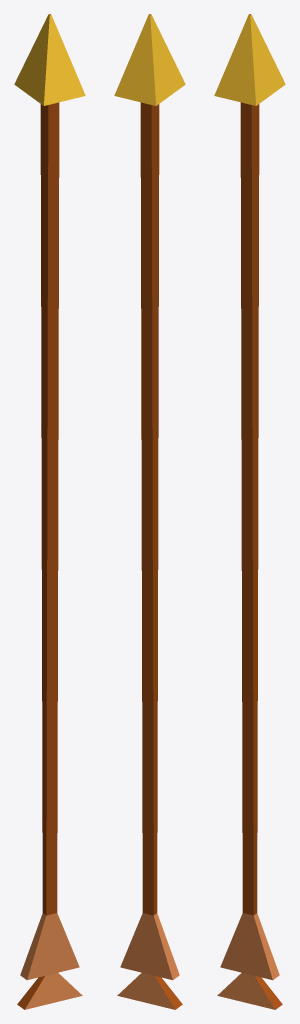
The model's file is (1) senjata anak panah prajurit.fbx.
3 renders of one model, left to right at view 1: azimuth 30°, elevation 25°; view 2: azimuth 150°, elevation 25°; view 3: azimuth 330°, elevation 25°, orthographic.
Parts seen in each view (by area): view 1: panah; view 2: panah; view 3: panah.
Part boxes in pixels (left/top/right/bottom): panah: left=14, top=14, right=85, bottom=1009; panah: left=114, top=14, right=185, bottom=1009; panah: left=214, top=14, right=285, bottom=1009.
Size of the model in its own units: 16.26 by 263 by 14.3.
